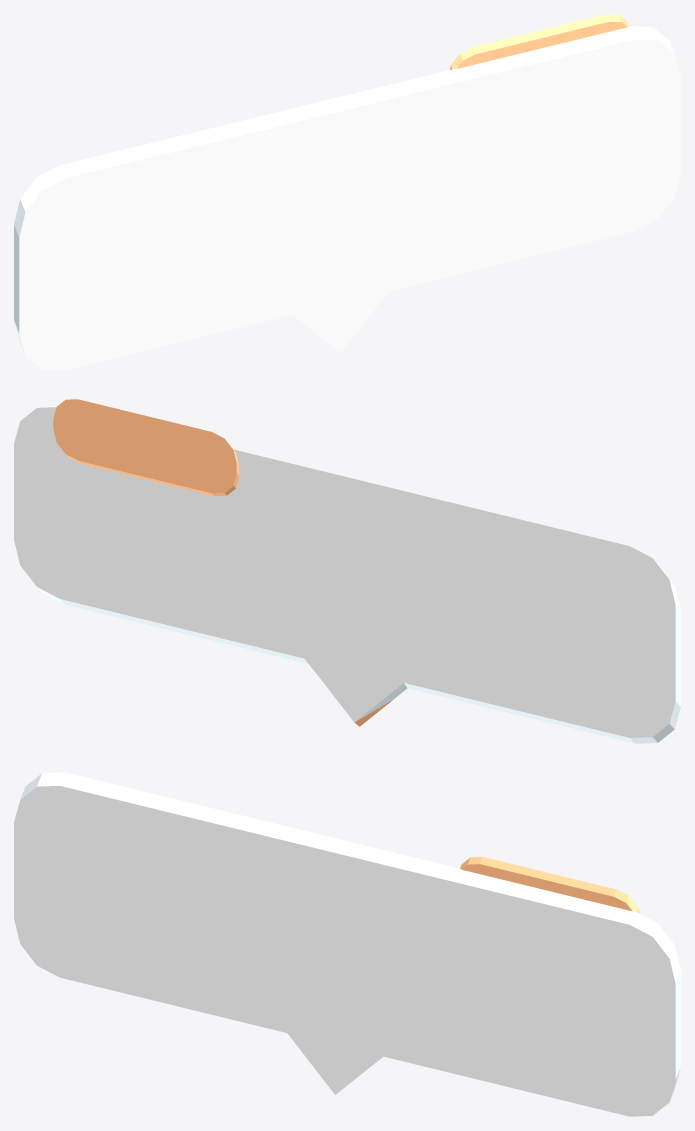
The model's file is s0_centerbubble_01.glb.
3 views of the same model, one above another, from view 1: azimuth 30°, elevation 25°; view 2: azimuth 150°, elevation 25°; view 3: azimuth 330°, elevation 25° (orthographic).
Parts seen in each view (by area): view 1: node_centerbubble; view 2: node_centerbubble; view 3: node_centerbubble.
Boxes of the visible parts, x1=… form: node_centerbubble: x1=14, y1=14, x2=680, y2=370; node_centerbubble: x1=14, y1=399, x2=680, y2=743; node_centerbubble: x1=14, y1=772, x2=680, y2=1116.
Size of the model in its own units: 3.59 by 1.38 by 0.0745.
